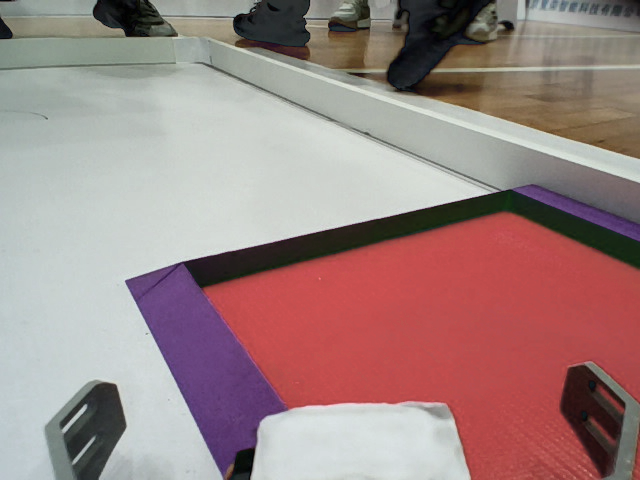kuang: (121, 182, 640, 480)
